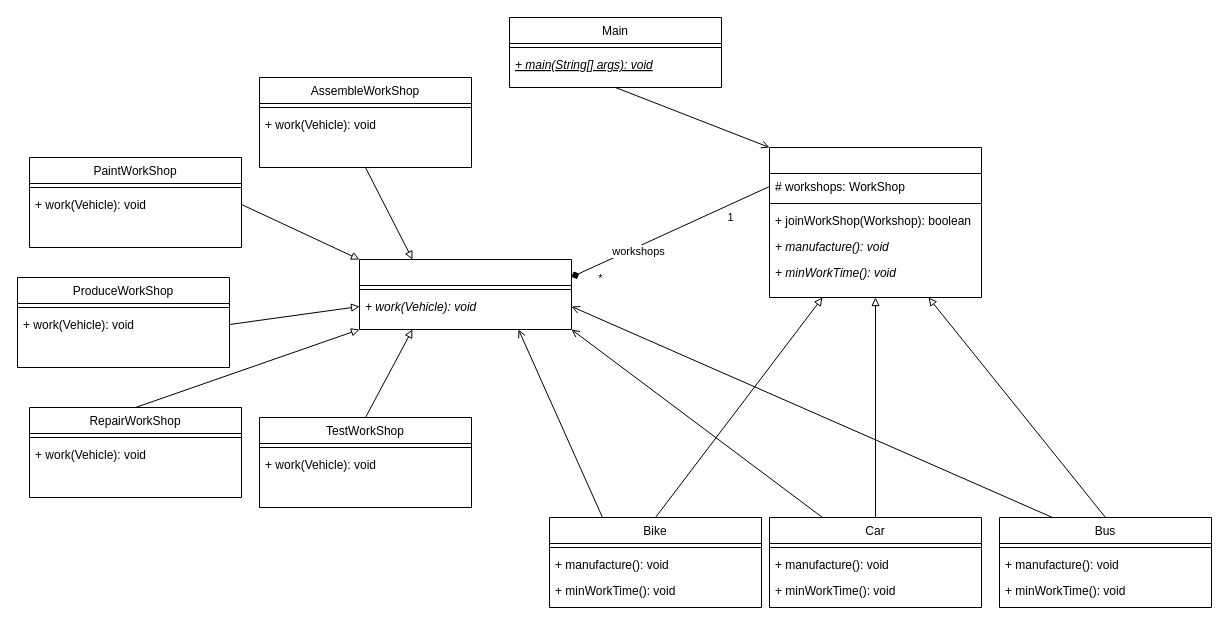
This 1229x625 diagram has some shape labels left out. Here are the shapes that lost their labels. From the top down, the box of each, then its label:
(768, 146, 982, 298): Vehicle
(358, 258, 572, 330): WorkShop
